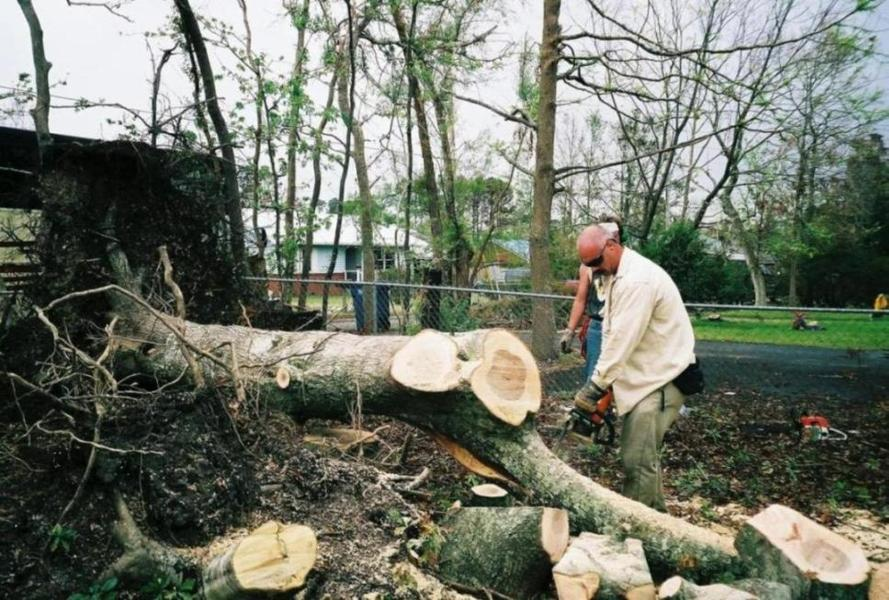person: (572, 222, 704, 512)
